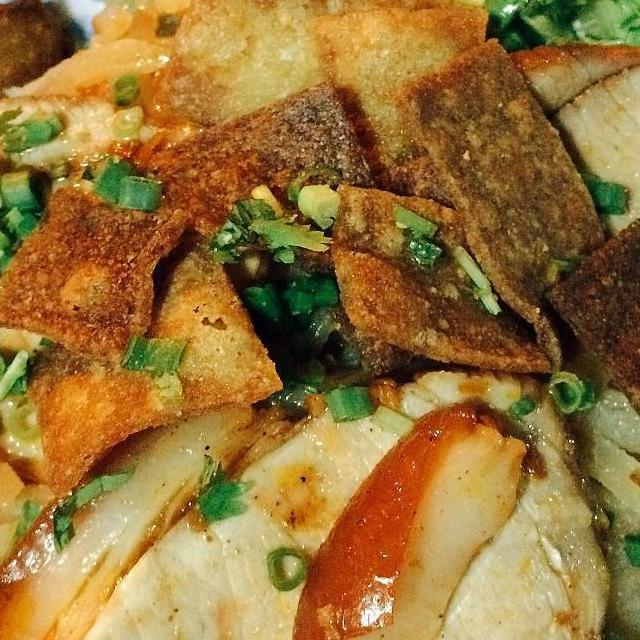banh da: (391, 31, 622, 377), (23, 234, 289, 516), (136, 72, 386, 268), (322, 178, 558, 384), (0, 179, 196, 369), (545, 211, 640, 460), (0, 0, 87, 141)
mi: (541, 363, 640, 640), (0, 304, 64, 640), (84, 0, 439, 44)
mi quang: (0, 0, 640, 640)
thit heo: (54, 360, 615, 640), (0, 387, 319, 640), (0, 78, 205, 411), (486, 35, 640, 292)
